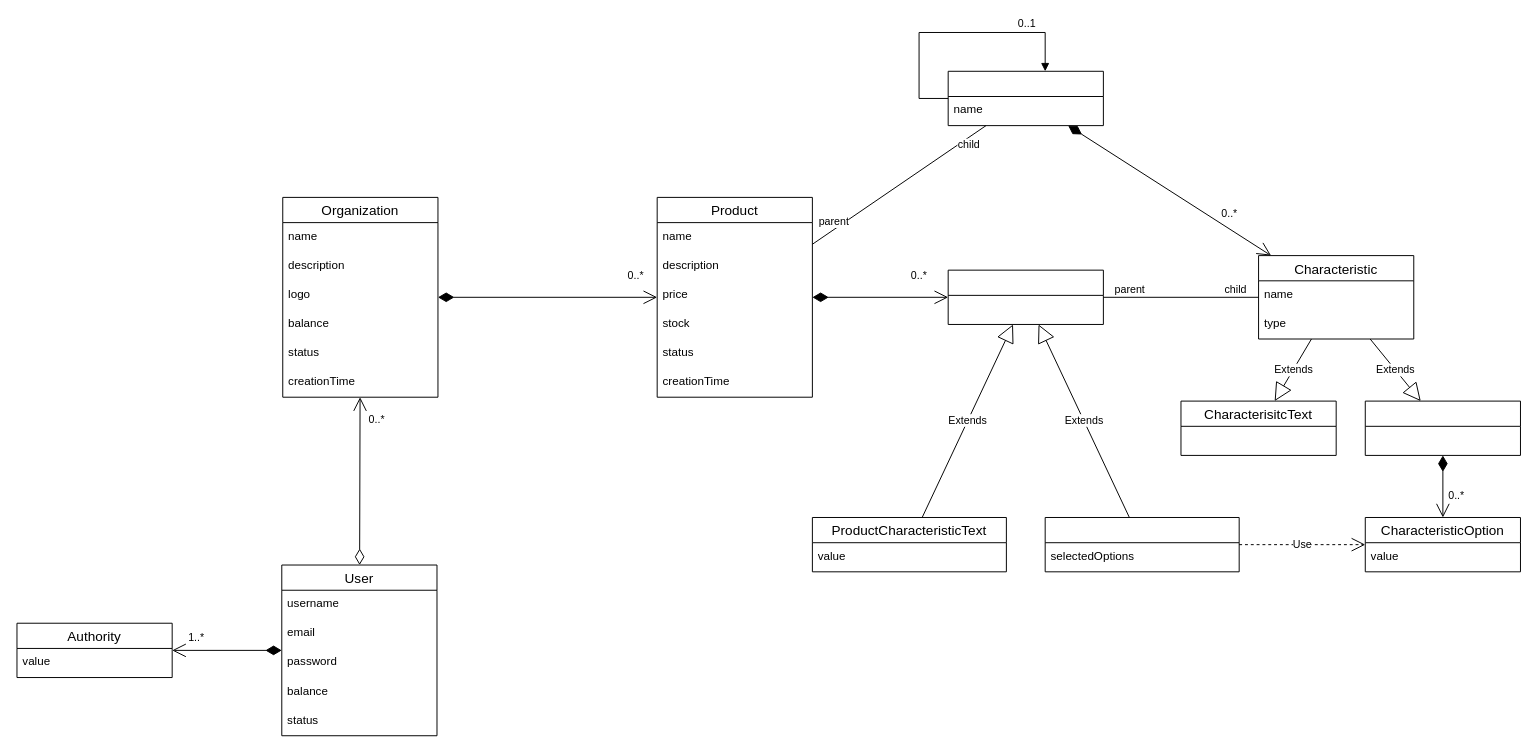
This 1537x755 diagram has some shape labels left out. Each missing label, with the box of its shape:
Category: (947, 70, 1103, 126)
CharacterisitcSelect: (1364, 400, 1520, 455)
ProductCharacteristic: (947, 269, 1103, 324)
ProductCharacteristicSelect: (1044, 517, 1239, 572)
